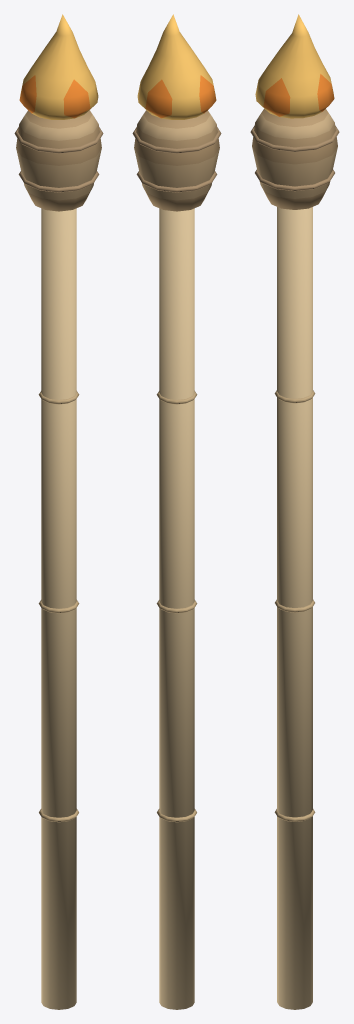
Rendered from torch.glb.
3 views of the same model, side by side, from view 1: azimuth 30°, elevation 25°; view 2: azimuth 150°, elevation 25°; view 3: azimuth 330°, elevation 25° (orthographic).
Visible parts, largest first — view 1: Torch | bamboo pole, Torch | woven fuel cup, Torch | soft flame, Torch | wrapped cord.001, Torch | wrapped cord; view 2: Torch | bamboo pole, Torch | woven fuel cup, Torch | soft flame, Torch | wrapped cord.001, Torch | wrapped cord; view 3: Torch | bamboo pole, Torch | woven fuel cup, Torch | soft flame, Torch | wrapped cord.001, Torch | wrapped cord.
Boxes of the visible parts, x1,y1,x2,y2 form: Torch | bamboo pole: (41, 208, 76, 1009); Torch | woven fuel cup: (16, 110, 101, 211); Torch | soft flame: (19, 14, 98, 119); Torch | wrapped cord.001: (14, 127, 103, 153); Torch | wrapped cord: (18, 171, 99, 192); Torch | bamboo pole: (159, 208, 194, 1009); Torch | woven fuel cup: (134, 110, 219, 211); Torch | soft flame: (137, 14, 216, 119); Torch | wrapped cord.001: (132, 127, 221, 153); Torch | wrapped cord: (136, 171, 217, 192); Torch | bamboo pole: (277, 207, 312, 1009); Torch | woven fuel cup: (252, 108, 337, 209); Torch | soft flame: (255, 14, 334, 118); Torch | wrapped cord.001: (250, 126, 339, 151); Torch | wrapped cord: (255, 169, 334, 191).
Bounding box in the file's own units: 0.085 × 1.04 × 0.085.
